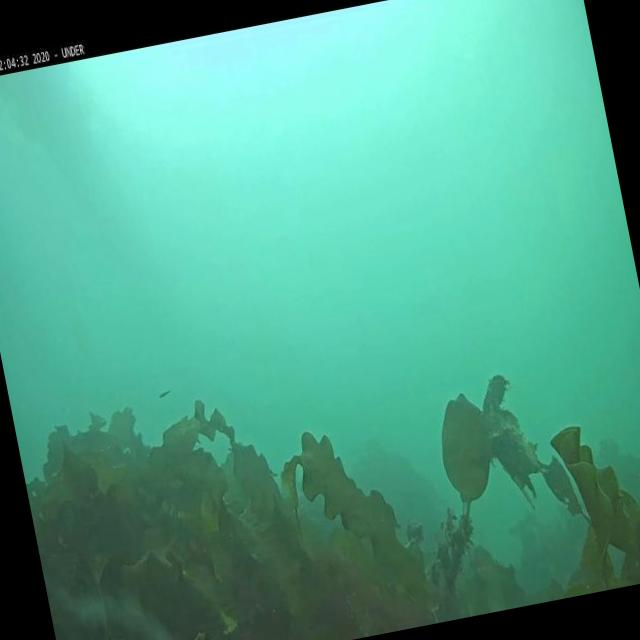fish: (160, 386, 172, 399)
